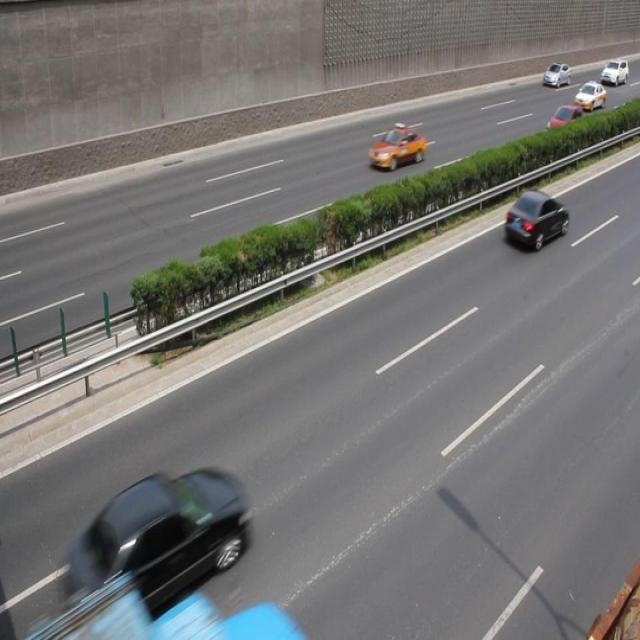car: (74, 464, 248, 613), (503, 190, 569, 254), (367, 121, 425, 172), (544, 102, 586, 142), (572, 79, 605, 112), (542, 60, 571, 88)
